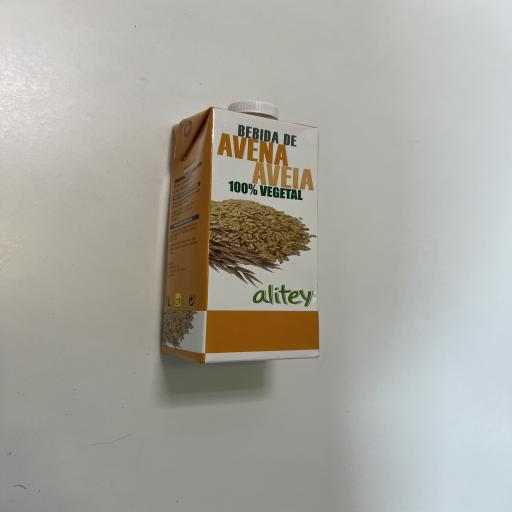oat_milk: (146, 94, 350, 364)
